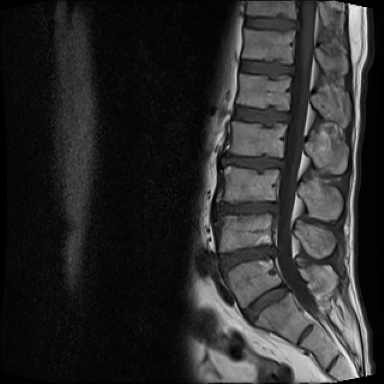Degenerative Disc Disease (DDD): (217, 241, 279, 277)
Lumbar Disc Bulge (LDB): (230, 100, 295, 129), (219, 148, 290, 174), (211, 197, 283, 220)
Normal IVD: (236, 282, 293, 329), (234, 52, 298, 78)
Spinal Stenosis (SS): (266, 195, 284, 222), (276, 154, 290, 174)
Thoracic Disc Bulge (TDB): (240, 15, 302, 33)
